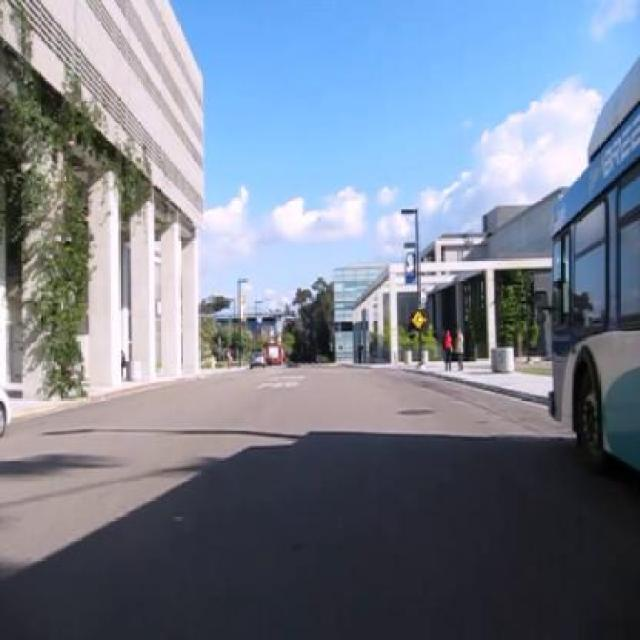pedestrianCrossing: (412, 308, 428, 329)
